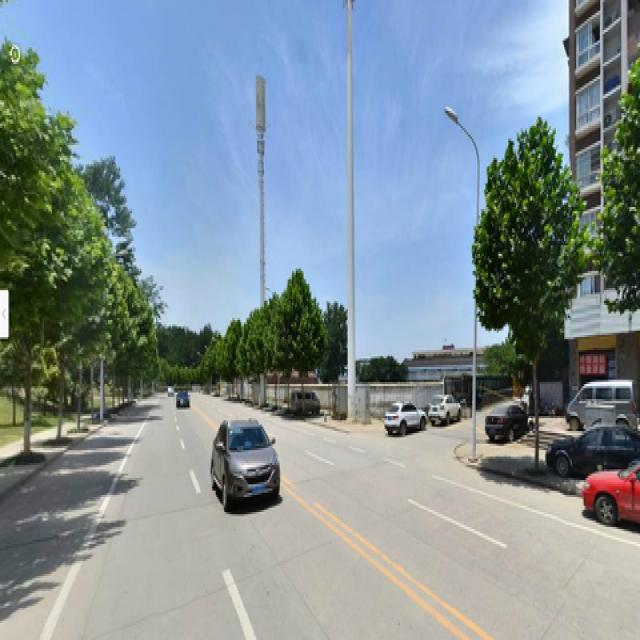meta: (479, 134, 585, 463)
